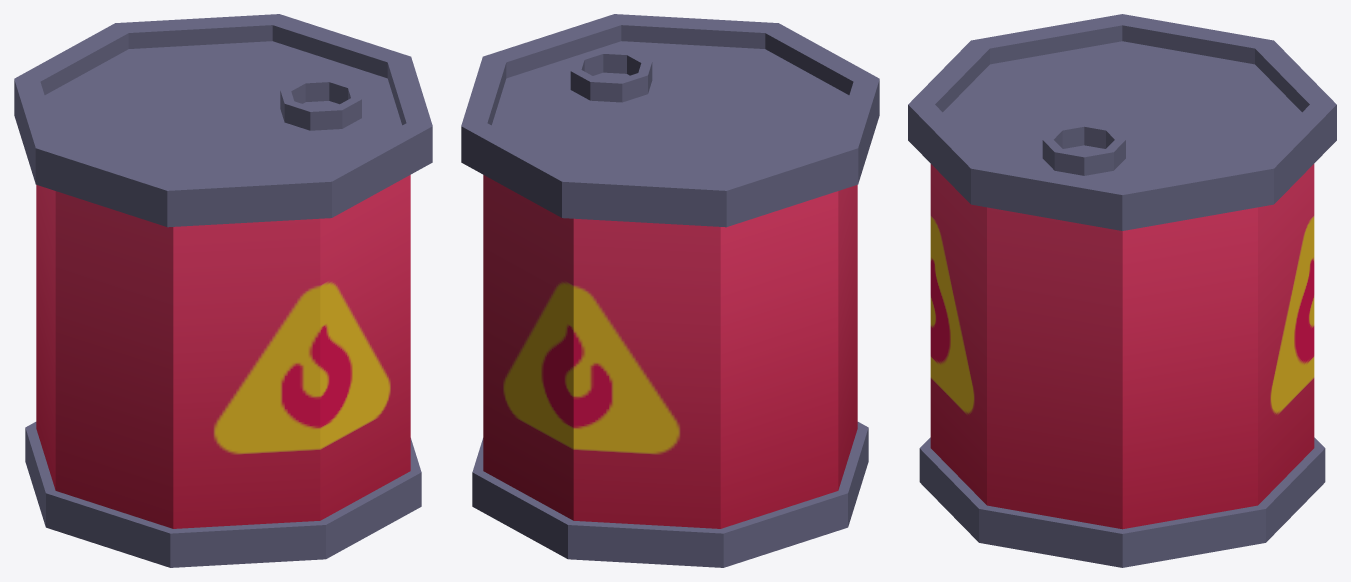
File: Barrel.fbx
The picture shows the model from 3 angles, left to right: view 1: azimuth 30°, elevation 25°; view 2: azimuth 150°, elevation 25°; view 3: azimuth 270°, elevation 25°; orthographic projection.
Parts seen in each view (by area): view 1: Barrel; view 2: Barrel; view 3: Barrel.
Boxes of the visible parts, <box> form: Barrel: <box>14,14,432,567</box>; Barrel: <box>461,14,879,567</box>; Barrel: <box>908,14,1336,567</box>.
Size of the model in its own units: 97.38 by 95.33 by 97.38.
Materials: 1 (1 with a texture image).
